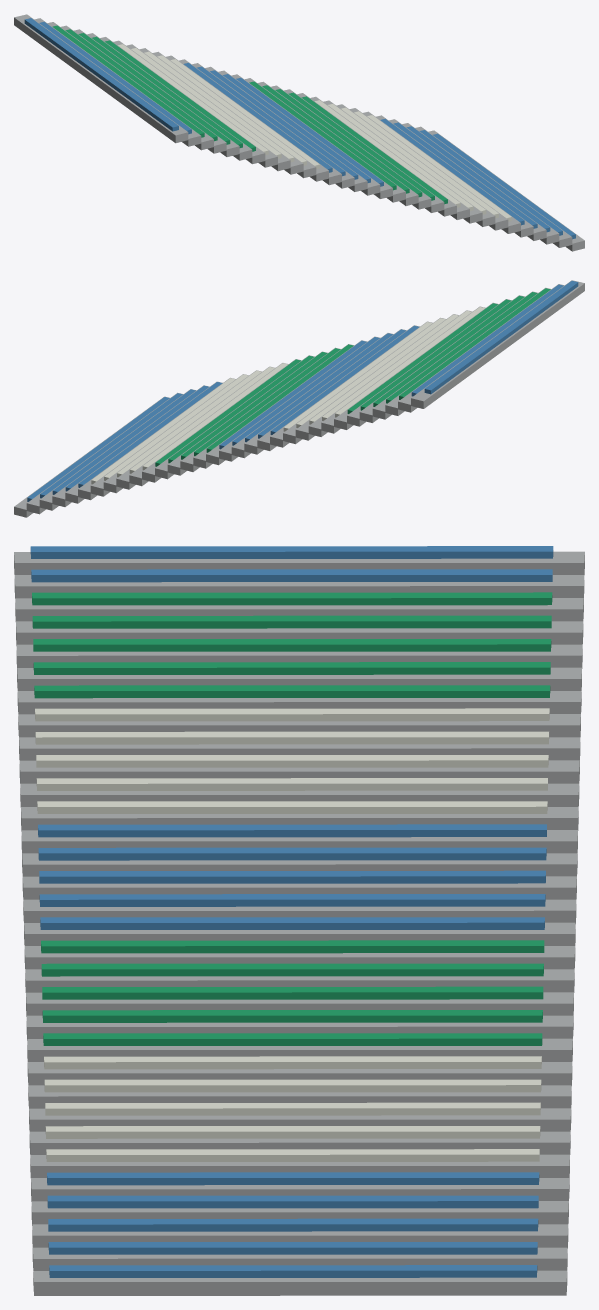
File: interlagos-trecho1-setor-a.glb
3 renders of one model, top to bottom at view 1: azimuth 30°, elevation 25°; view 2: azimuth 150°, elevation 25°; view 3: azimuth 270°, elevation 25°, orthographic. The views are drawn at different scales.
Visible parts, largest first — view 1: Arquibancada A; view 2: Arquibancada A; view 3: Arquibancada A.
Part boxes in pixels (x1,y1,x2,y2): Arquibancada A: (14, 14, 584, 251); Arquibancada A: (14, 280, 584, 517); Arquibancada A: (14, 546, 584, 1295).
Bounding box in the file's own units: 24.96 × 12.77 × 16.82.
